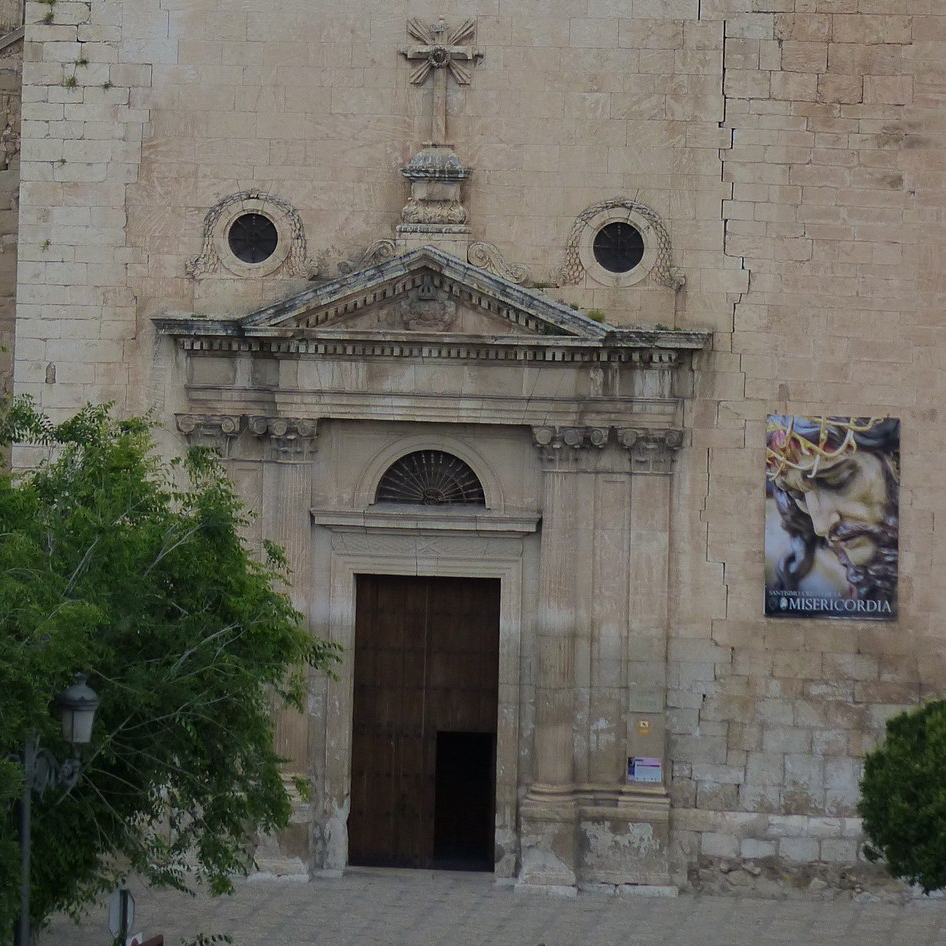fronton: (235, 241, 609, 346)
ojo-de-buey: (572, 197, 670, 290), (206, 193, 304, 278)
vano-adintelado: (303, 521, 534, 879)
